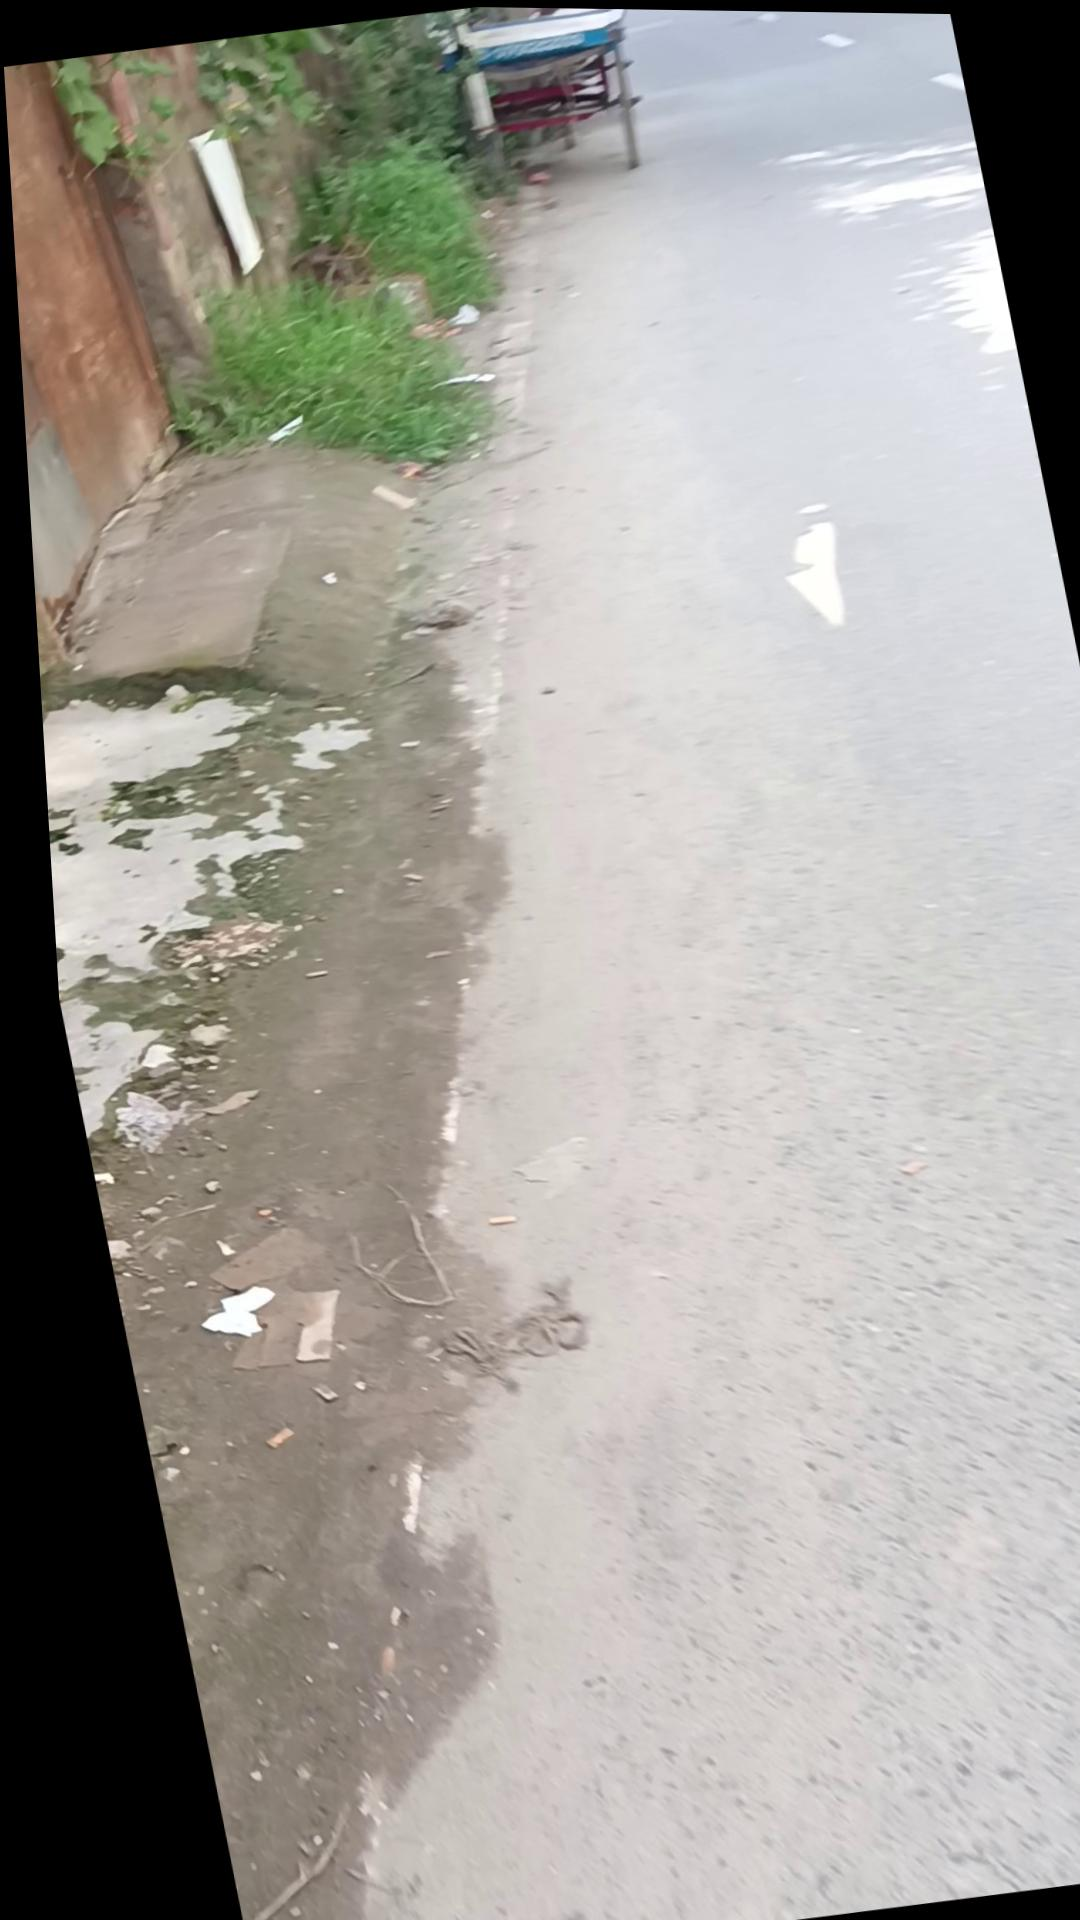Bench: (18, 400, 724, 1920)
Broken-road: (18, 402, 451, 707)
Fallen-tree: (265, 117, 509, 351)
Garbage: (0, 0, 1080, 1920)
